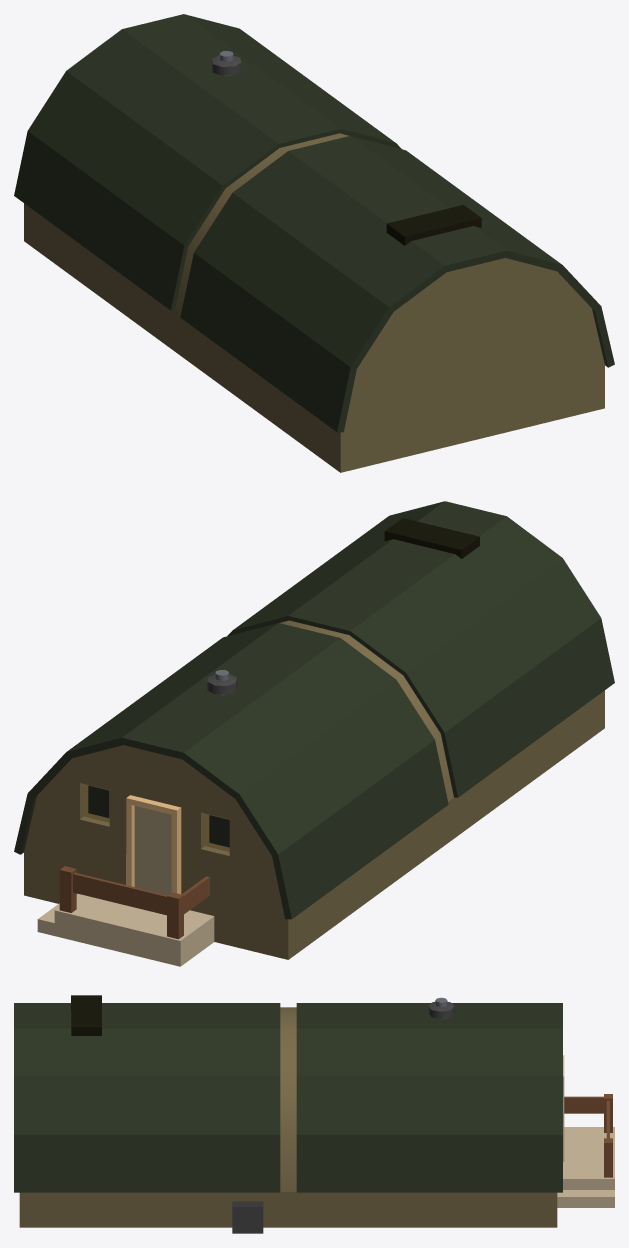
Rendered from barrack4.fbx.
The picture shows the model from 3 angles, top to bottom: view 1: azimuth 30°, elevation 25°; view 2: azimuth 150°, elevation 25°; view 3: azimuth 270°, elevation 25°; orthographic projection. The views are drawn at different scales.
Visible parts, largest first — view 1: barrack4; view 2: barrack4; view 3: barrack4.
Part boxes in pixels (x1,y1,x2,y2): barrack4: [14, 14, 614, 472]; barrack4: [14, 501, 614, 966]; barrack4: [14, 995, 614, 1233].
Size of the model in its own units: 603 by 414 by 1298.
